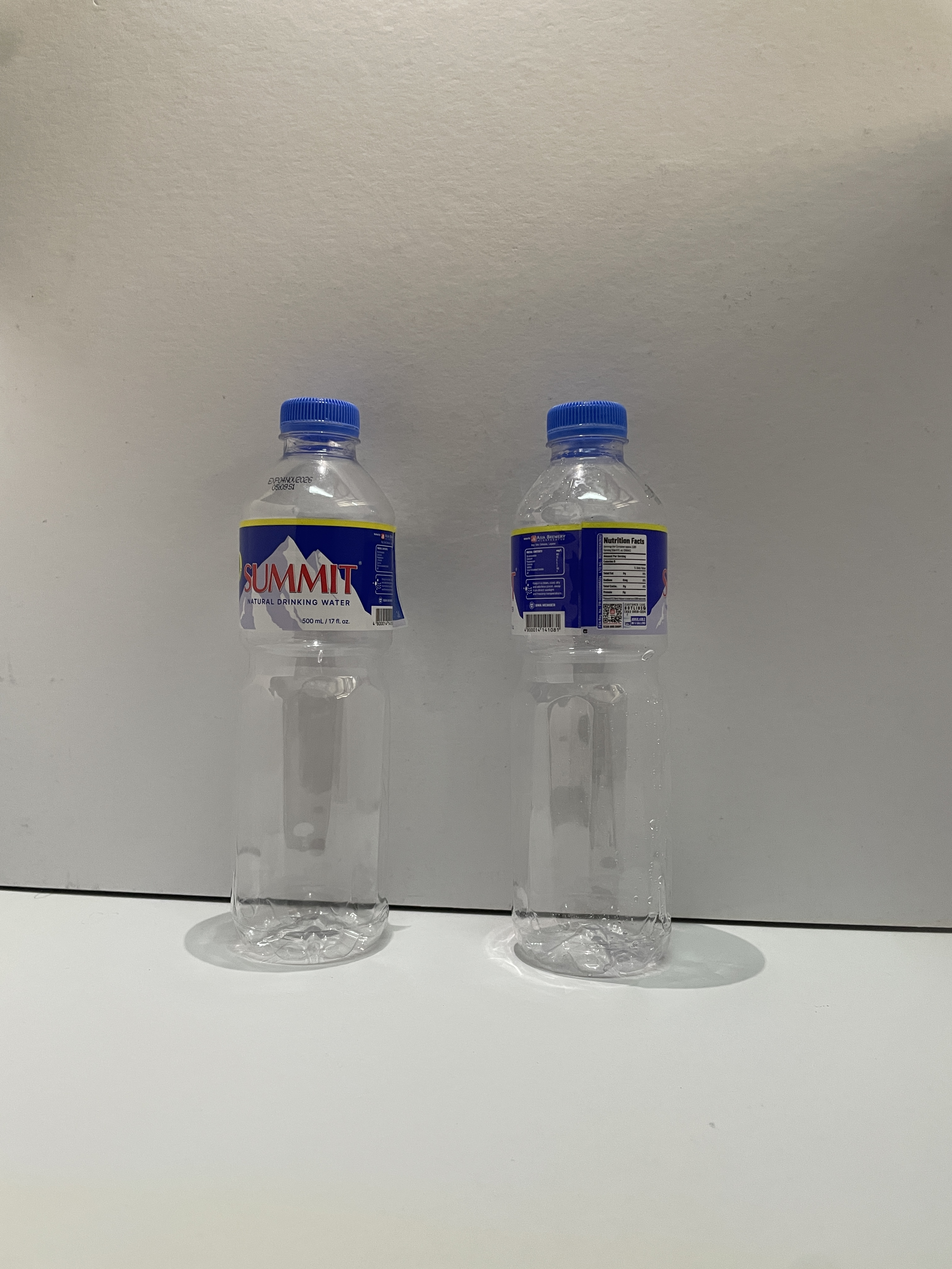Summit 500mL: (232, 398, 403, 963), (509, 401, 670, 974)
